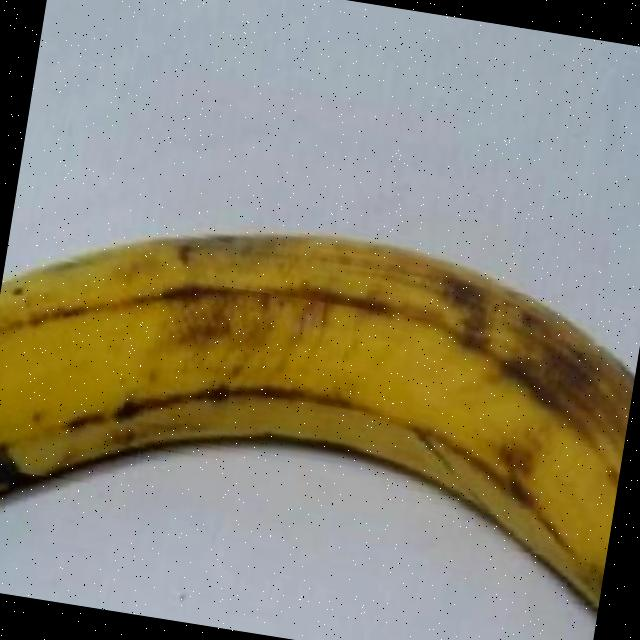Overripe: (0, 158, 640, 633)
